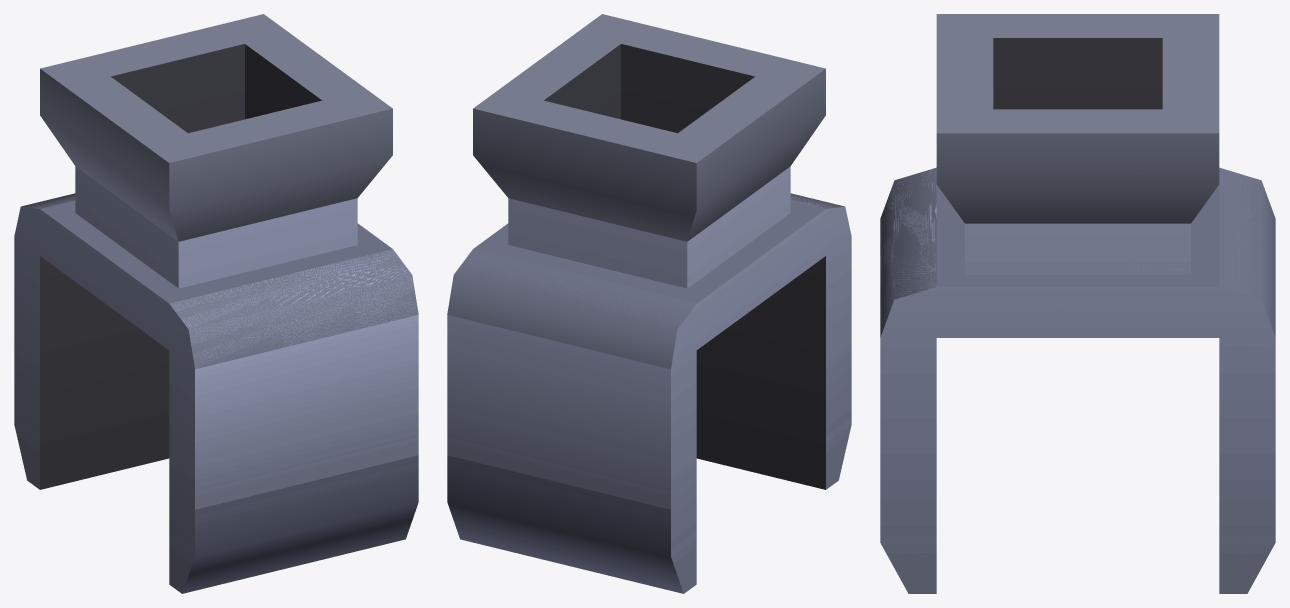
File: kcv_cover_hopper.glb
3 renders of one model, left to right at view 1: azimuth 30°, elevation 25°; view 2: azimuth 150°, elevation 25°; view 3: azimuth 270°, elevation 25°, orthographic. The views are drawn at different scales.
Parts seen in each view (by area): view 1: cover-hopper; view 2: cover-hopper; view 3: cover-hopper.
Part boxes in pixels (bbox=[...]): cover-hopper: bbox=[14, 14, 418, 593]; cover-hopper: bbox=[447, 14, 851, 593]; cover-hopper: bbox=[880, 14, 1275, 593].
Bounding box in the file's own units: 1.33 × 2.4 × 1.87.
Materials: 1 (1 with a texture image).
